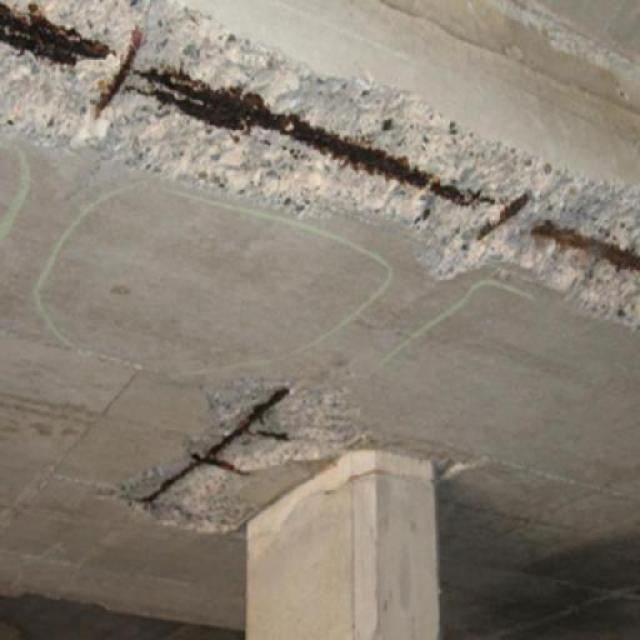D0w0: (0, 0, 639, 325), (121, 380, 365, 530)
